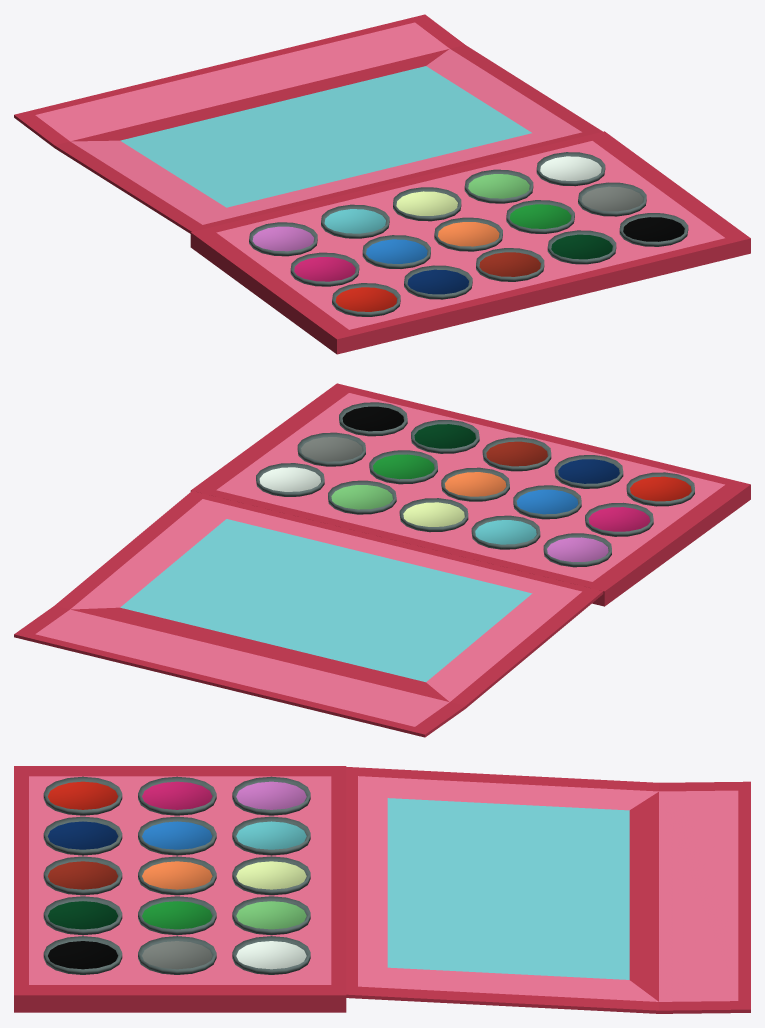
Rendered from MakeUpPalette.fbx.
The picture shows the model from 3 angles, top to bottom: view 1: azimuth 30°, elevation 25°; view 2: azimuth 150°, elevation 25°; view 3: azimuth 270°, elevation 25°; orthographic projection. The views are drawn at different scales.
Visible parts, largest first — view 1: Plane, Circle; view 2: Plane, Circle; view 3: Plane, Circle.
Part boxes in pixels (x1,y1,x2,y2): Plane: (14, 14, 750, 354); Circle: (249, 152, 688, 316); Plane: (14, 383, 750, 737); Circle: (256, 402, 694, 567); Plane: (14, 766, 750, 1013); Circle: (43, 776, 310, 974).
Size of the model in its own units: 27.2 by 1.39 by 36.92.
